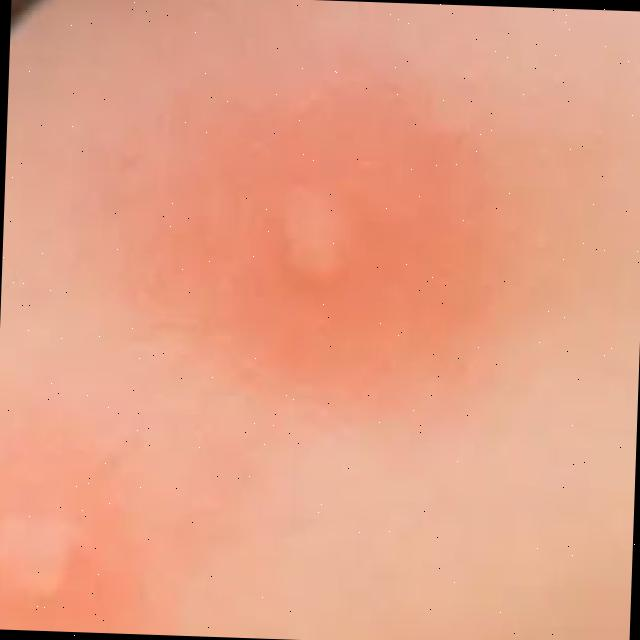sinek: (191, 90, 404, 397)
